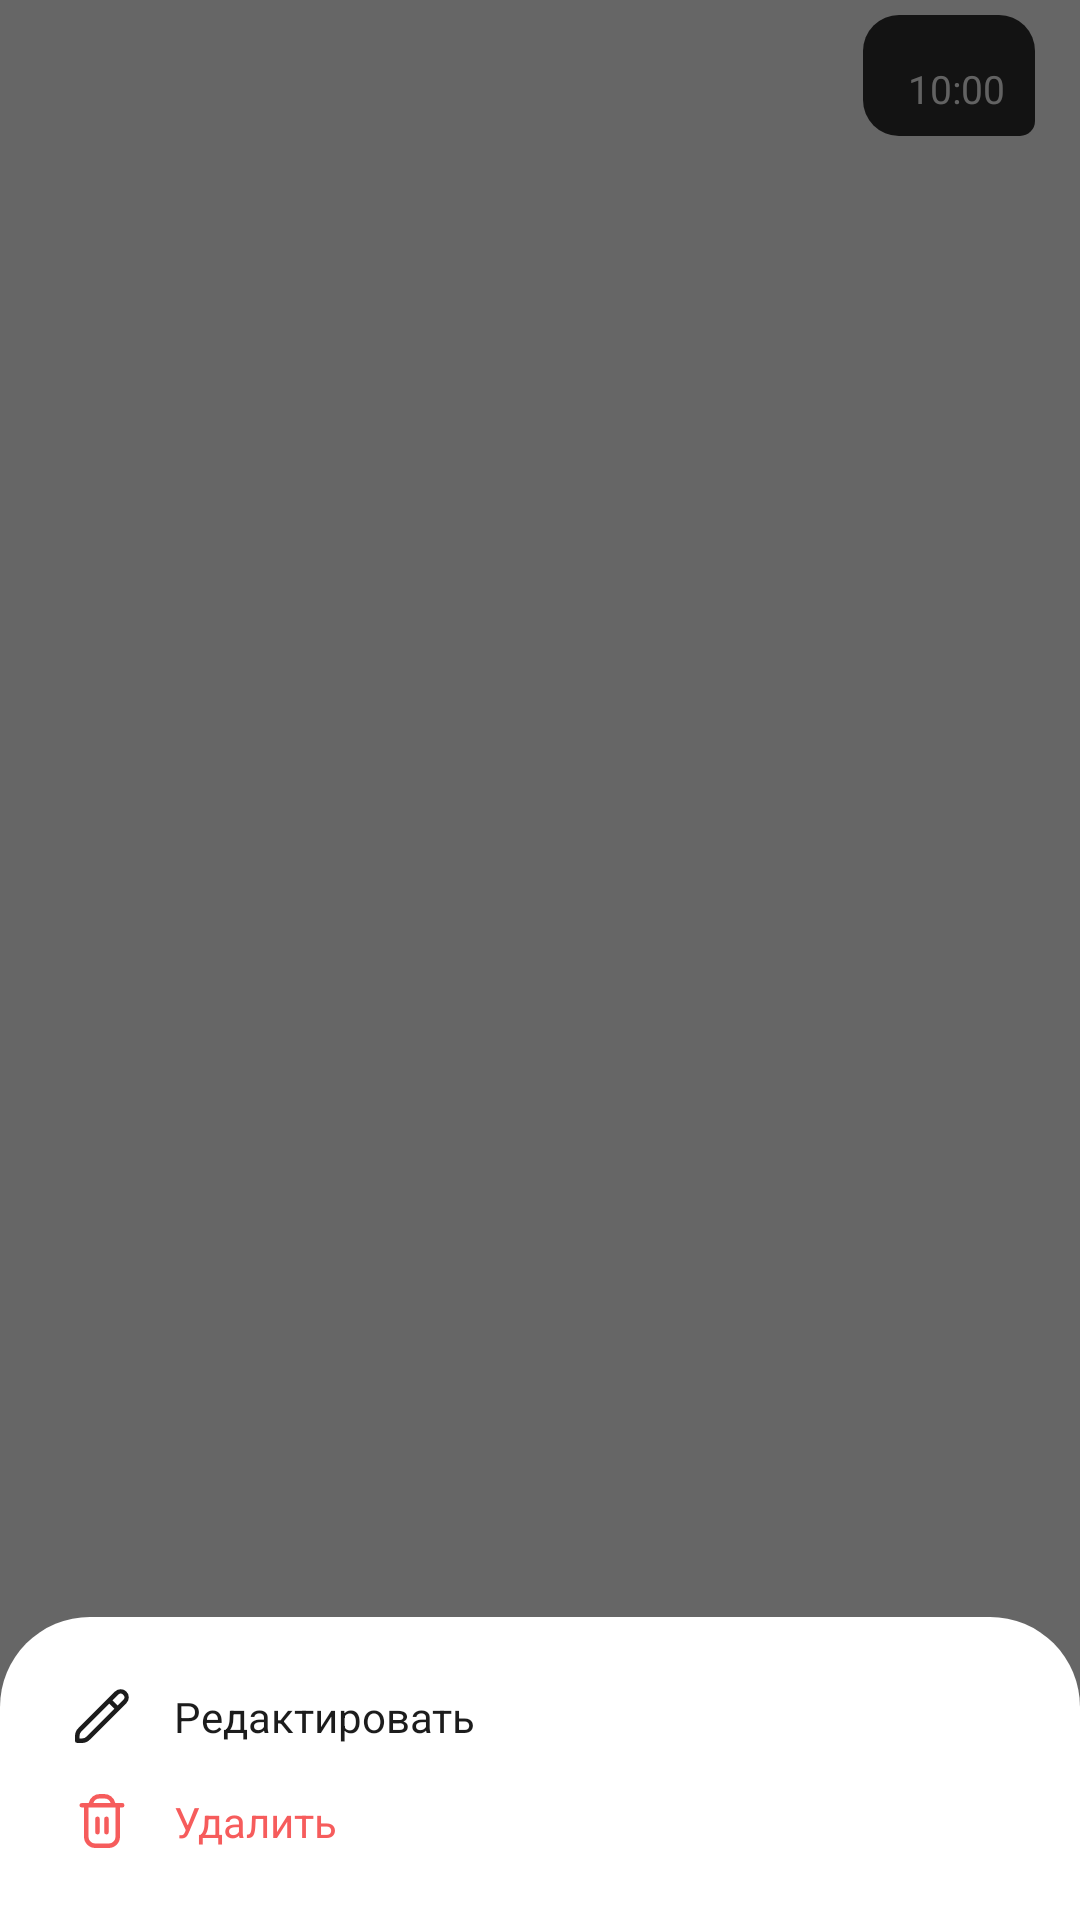

Screen size 1080*1920. Icon name, then its center in pixels as (x=x, y=y):
edit: (x=102, y=1716)
trash: (x=102, y=1821)
